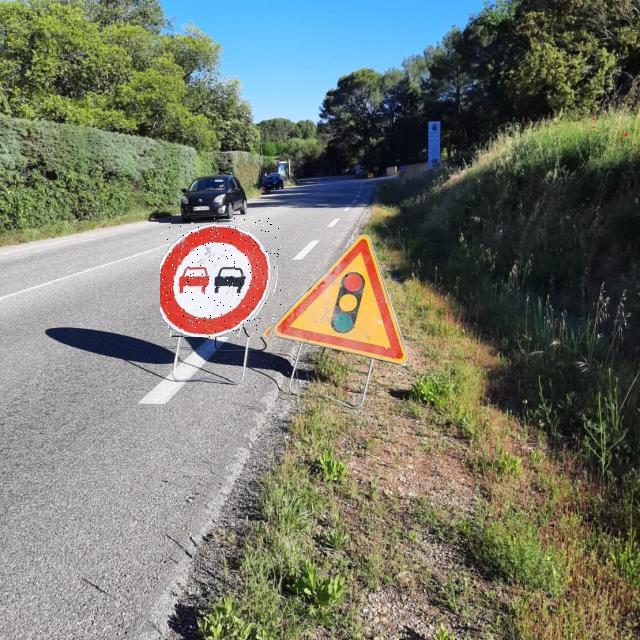no overtaking: (160, 217, 281, 337)
